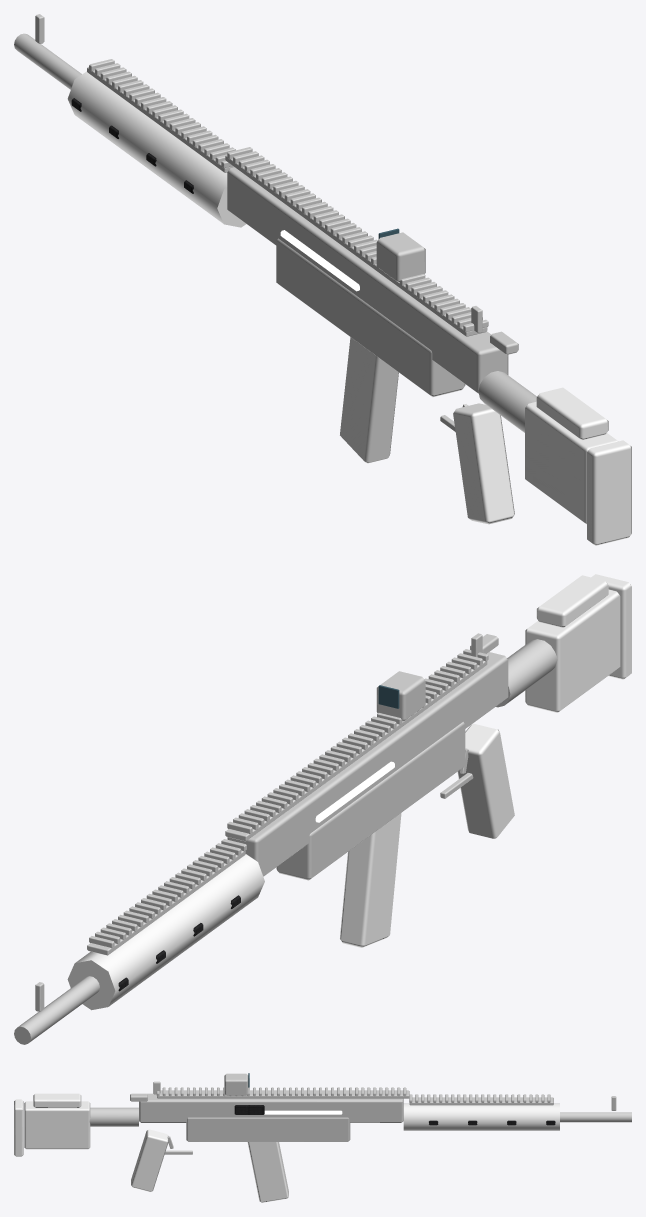
The model's file is arc.glb.
3 renders of one model, top to bottom at view 1: azimuth 30°, elevation 25°; view 2: azimuth 150°, elevation 25°; view 3: azimuth 270°, elevation 25°, orthographic. The views are drawn at different scales.
Bounding box in the file's own units: 0.05 × 0.2294 × 1.03.
Materials: 5 (1 with a texture image).
